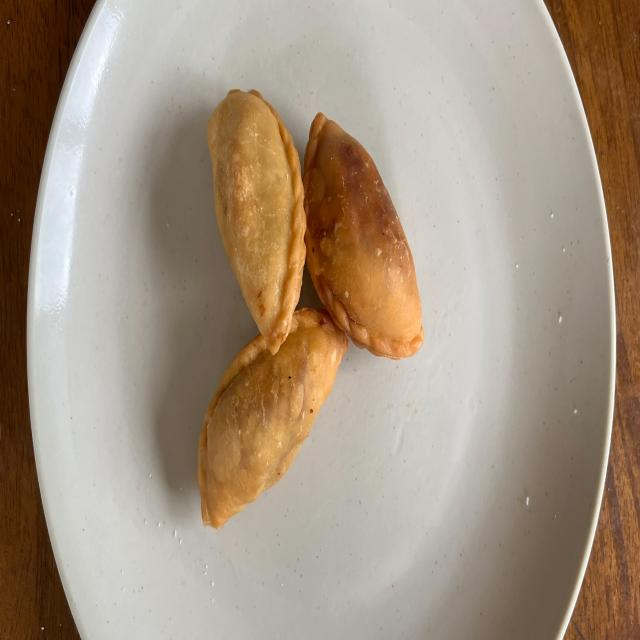karipap: (198, 307, 349, 529), (302, 113, 424, 358), (208, 89, 306, 353)
